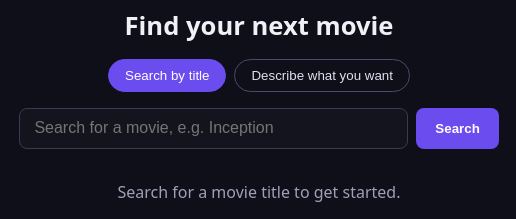
Test case: Home – title search › shows an alert when the search fails
The image size is (516, 219).
In the field: x=214, y=128 x1=19 y1=108 x2=408 y2=149, type "zzzz"
Then press Enter
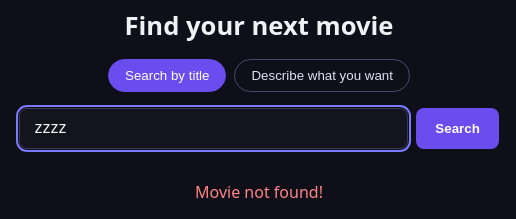
Now the message reads "Movie not found!", box x1=195 y1=181 x2=323 y2=203
